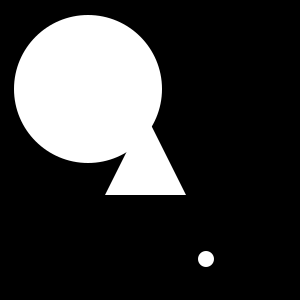rectangle: (14, 15, 162, 163), (198, 251, 214, 267)
triangle: (105, 114, 186, 195)
